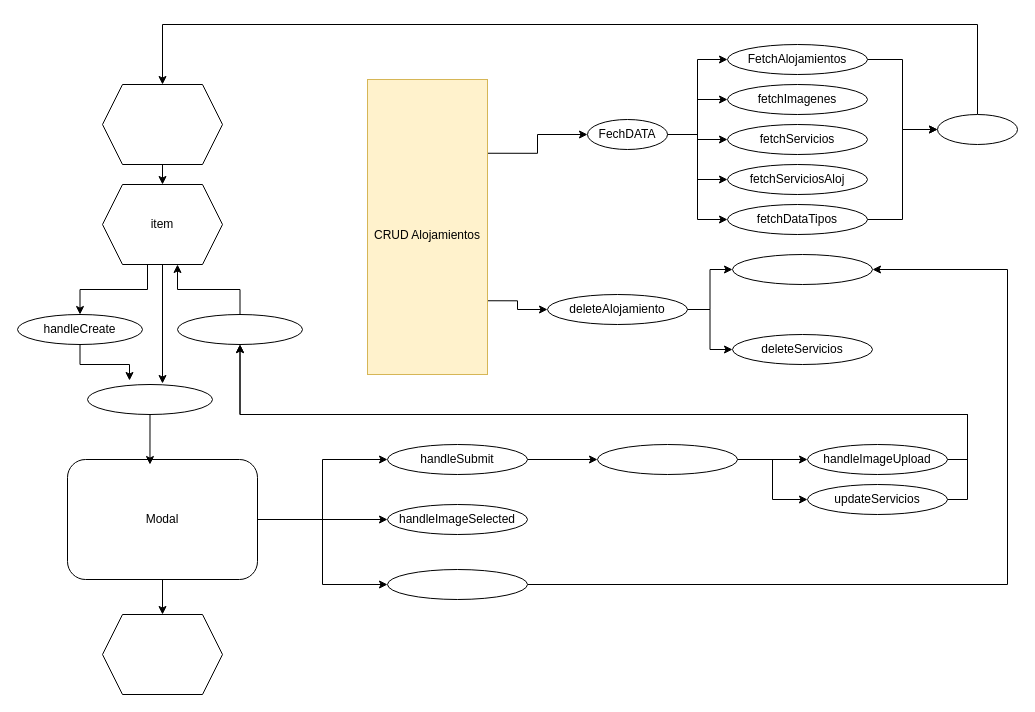
The diagram is 1035 pixels wide and 712 high, and some of its shapes have lost their labels. The centre of each missing label's shape, as x and y in pixels:
"Checks Servicios" belongs at (162,654).
"deleteImage" belongs at (457,584).
"deleteImgHandle" belongs at (802,269).
"handleCloseModal" belongs at (239,329).
"handleShowModal" belongs at (149,399).
"submitItem" belongs at (667,459).
"tablaCRUD" belongs at (162,124).
"transformData" belongs at (977,129).
